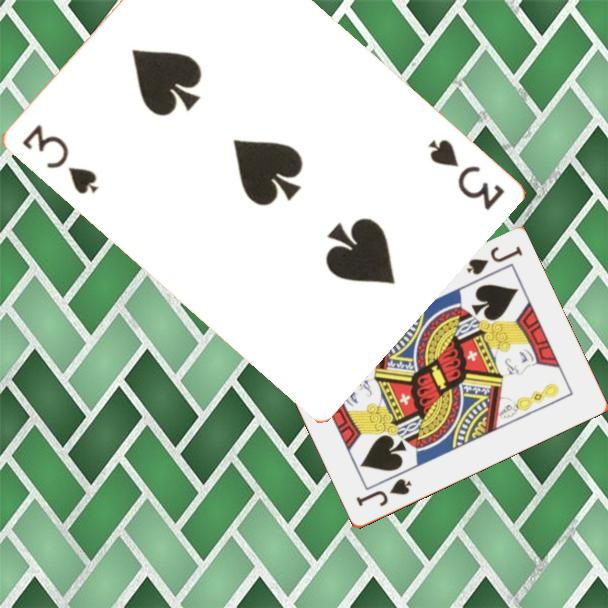s03: (424, 135, 507, 214), (18, 120, 102, 197)
s11: (352, 475, 415, 510), (463, 243, 525, 278)
